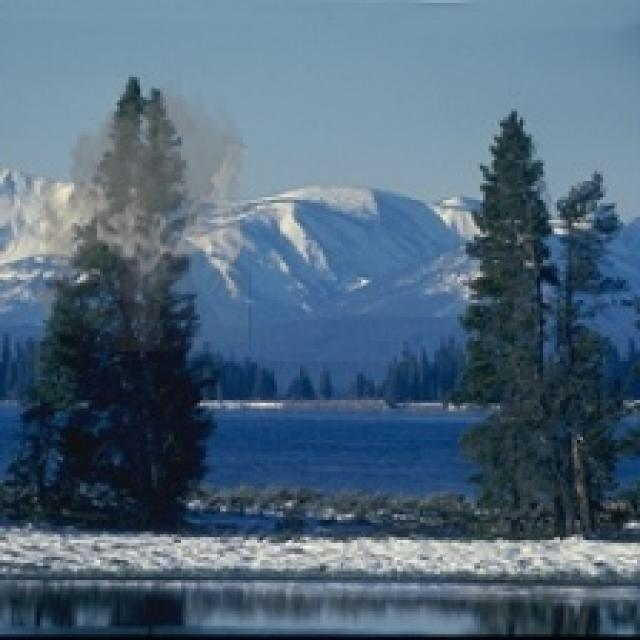smoke: (26, 68, 251, 352)
